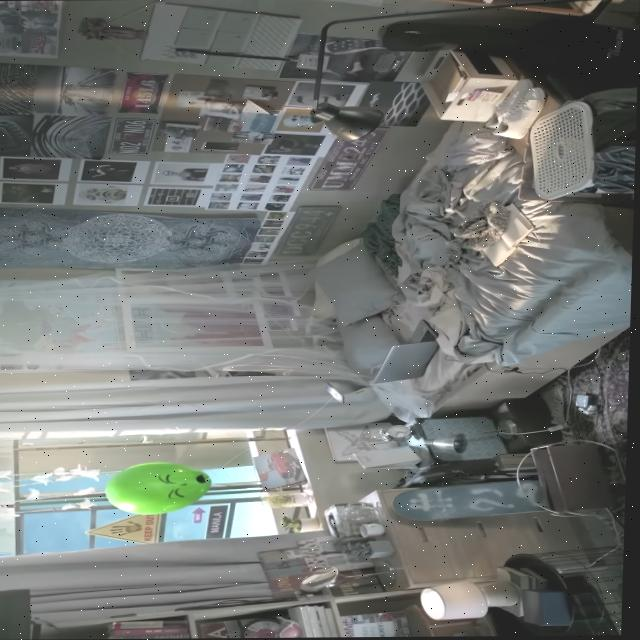balloon: (113, 463, 214, 513)
